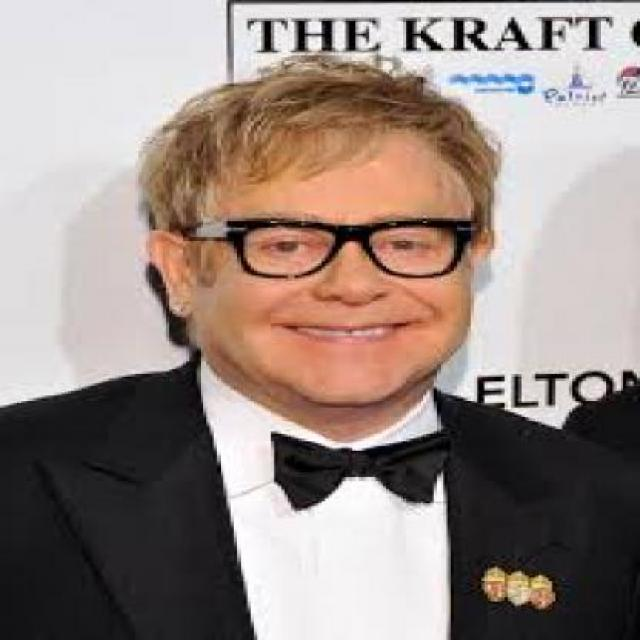glasses: (199, 211, 495, 283)
